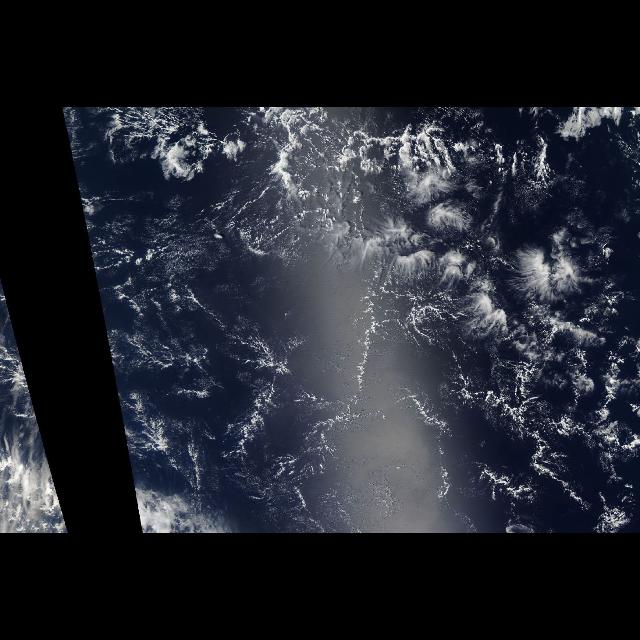Gravel: (95, 194, 639, 532), (106, 108, 502, 188)
Sugar: (81, 185, 446, 533)
